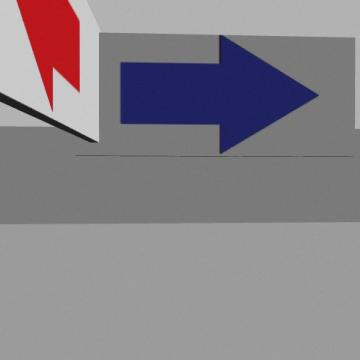blue_right: (120, 36, 318, 153)
red_left: (16, 0, 79, 110)
